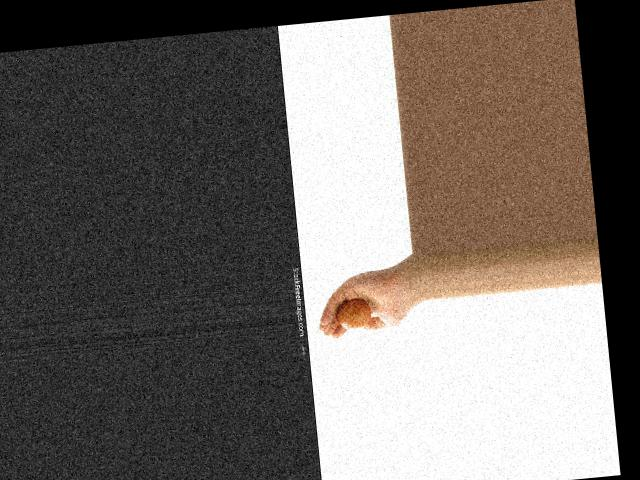egg: (333, 298, 372, 330)
